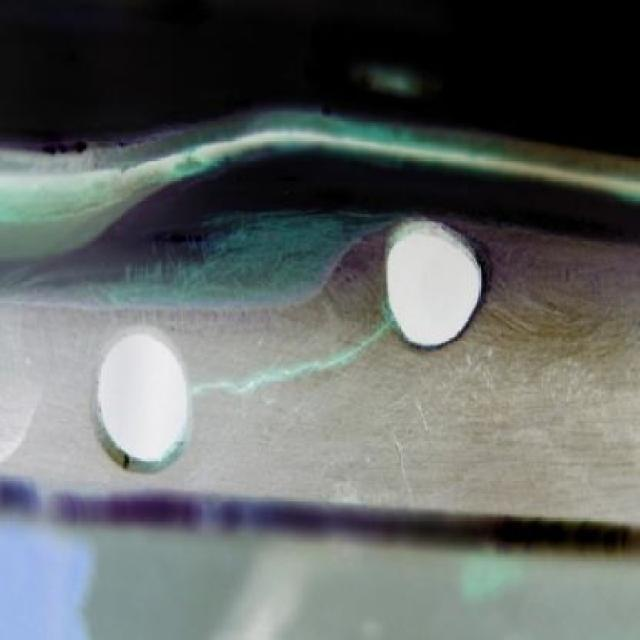crack: (293, 354, 364, 374), (355, 321, 388, 354), (238, 374, 295, 392), (187, 379, 240, 398)
